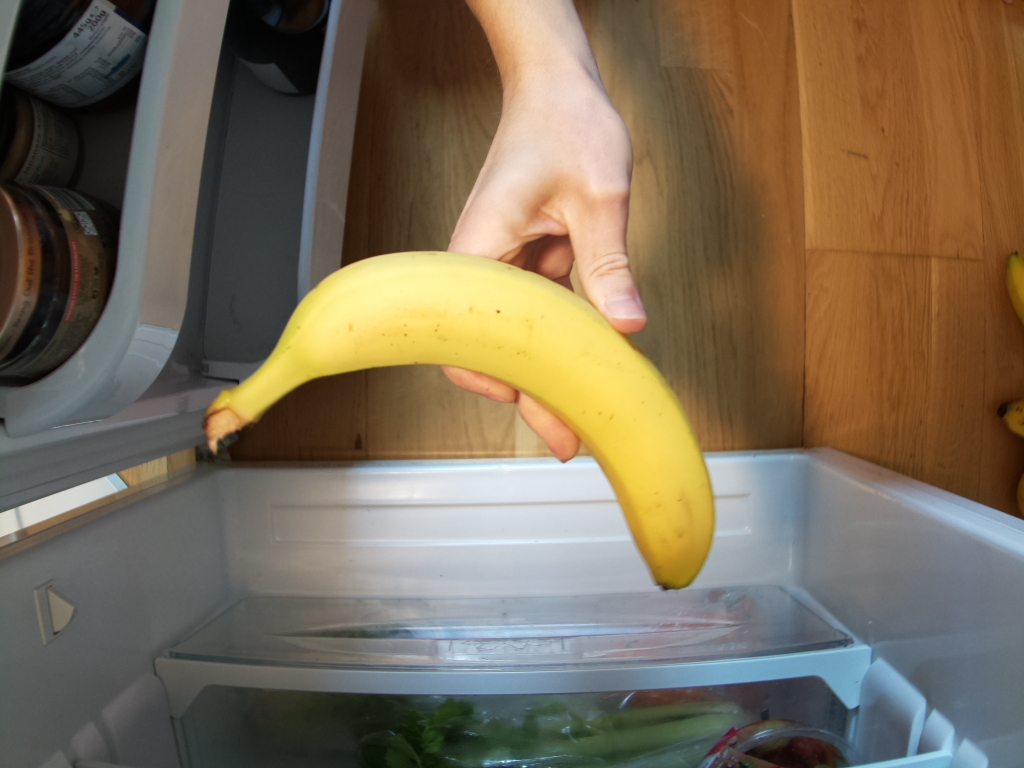banana: (194, 235, 729, 617)
